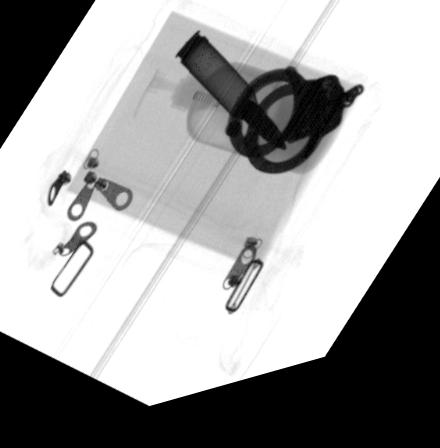Bullet: (170, 35, 286, 168)
HandCuffs: (222, 80, 363, 188)
